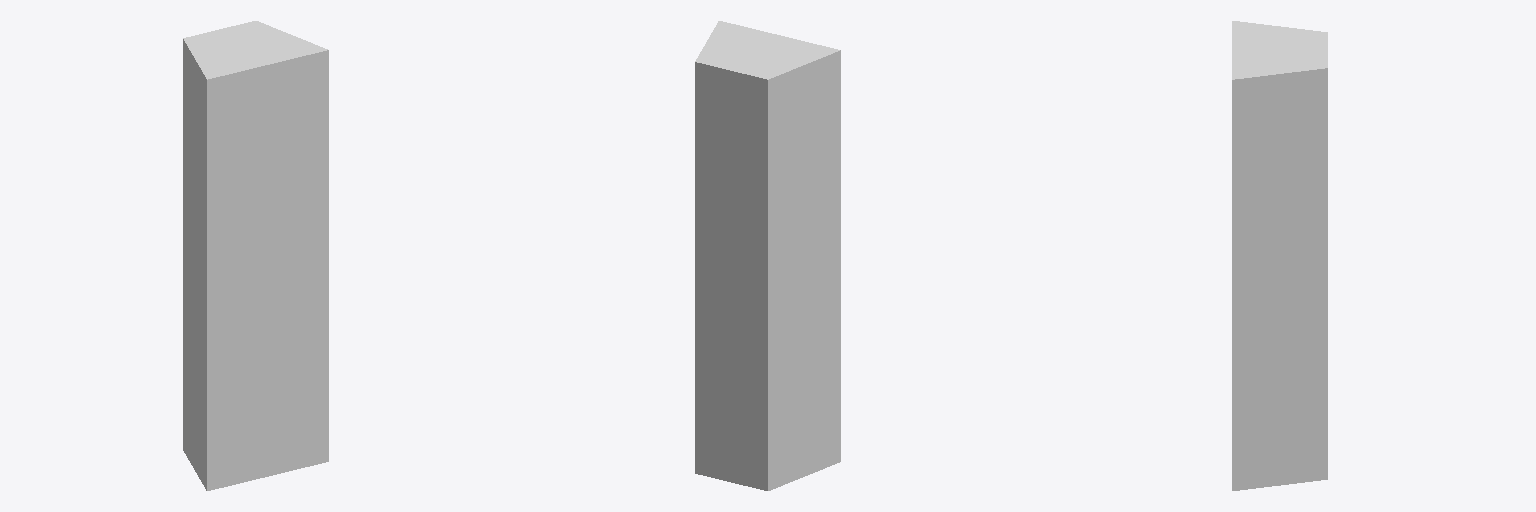
The robot description file, URDF, robot "peg":
<?xml version="1.0" ?>

<robot name="peg">
	<link name="peg">
<!-- 	    <contact>
	      <stiffness value="3000.0"/>
	      <damping value="1000.0"/>
	      <lateral_friction value="0.000"/>
	      <spinning_friction value="0"/>
	      <rolling_friction value="0"/>
	    </contact> -->
		<inertial>
			<mass value="0.1"/>
			<inertia ixx="0.1" ixy="0" ixz="0" iyy="0.1" iyz="0" izz="0.1"/>
		</inertial>
		<visual>
			<origin xyz="0 0 0"/>
	      	<geometry>
	        	<mesh filename="peg.obj"/>
	      	</geometry>
	  		<material name="panda_white">
	  			<color rgba="0.91 0.91 0.91 1."/>
				</material>
		</visual>
		<collision>
	  		<origin xyz="0 0 0"/>
	  		<geometry>
	    		<mesh filename="peg.obj"/>
	  		</geometry>
	  		<material name="panda_white"/>
		</collision>
	</link>

</robot>

--- What the picture shows (computed from the rendered views, not written in the file) ---
Views: 3 orthographic renders of the robot side by side, from view 1: azimuth 30°, elevation 25°; view 2: azimuth 150°, elevation 25°; view 3: azimuth 270°, elevation 25°.
Robot: peg — 1 links, 0 joints (none); root link peg; default pose: all joints at 0.
Links seen in each view (by area): view 1: peg; view 2: peg; view 3: peg.
Boxes of the visible links, x1=… form: peg: x1=183, y1=21, x2=328, y2=490; peg: x1=695, y1=21, x2=840, y2=490; peg: x1=1232, y1=21, x2=1327, y2=490.
Size in the robot's own frame: 0.0186 by 0.0128 by 0.06 metres.
1 mesh visuals loaded from 1 distinct referenced files (1 OBJ).